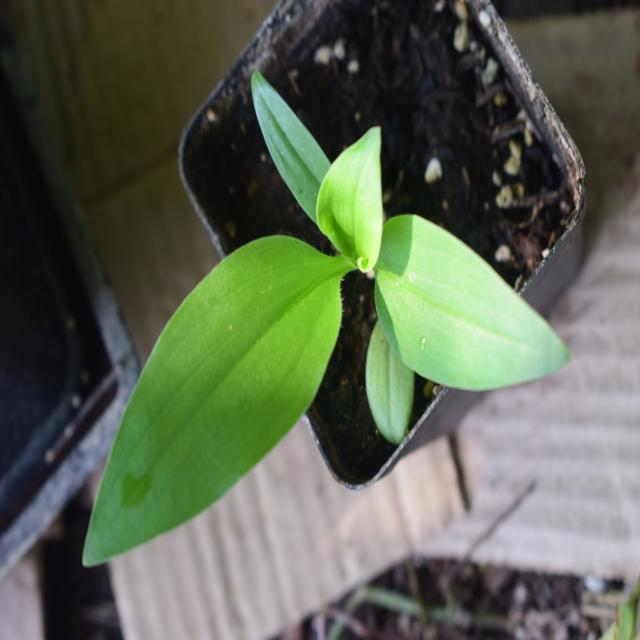Common Dayflower: (94, 127, 537, 539)
